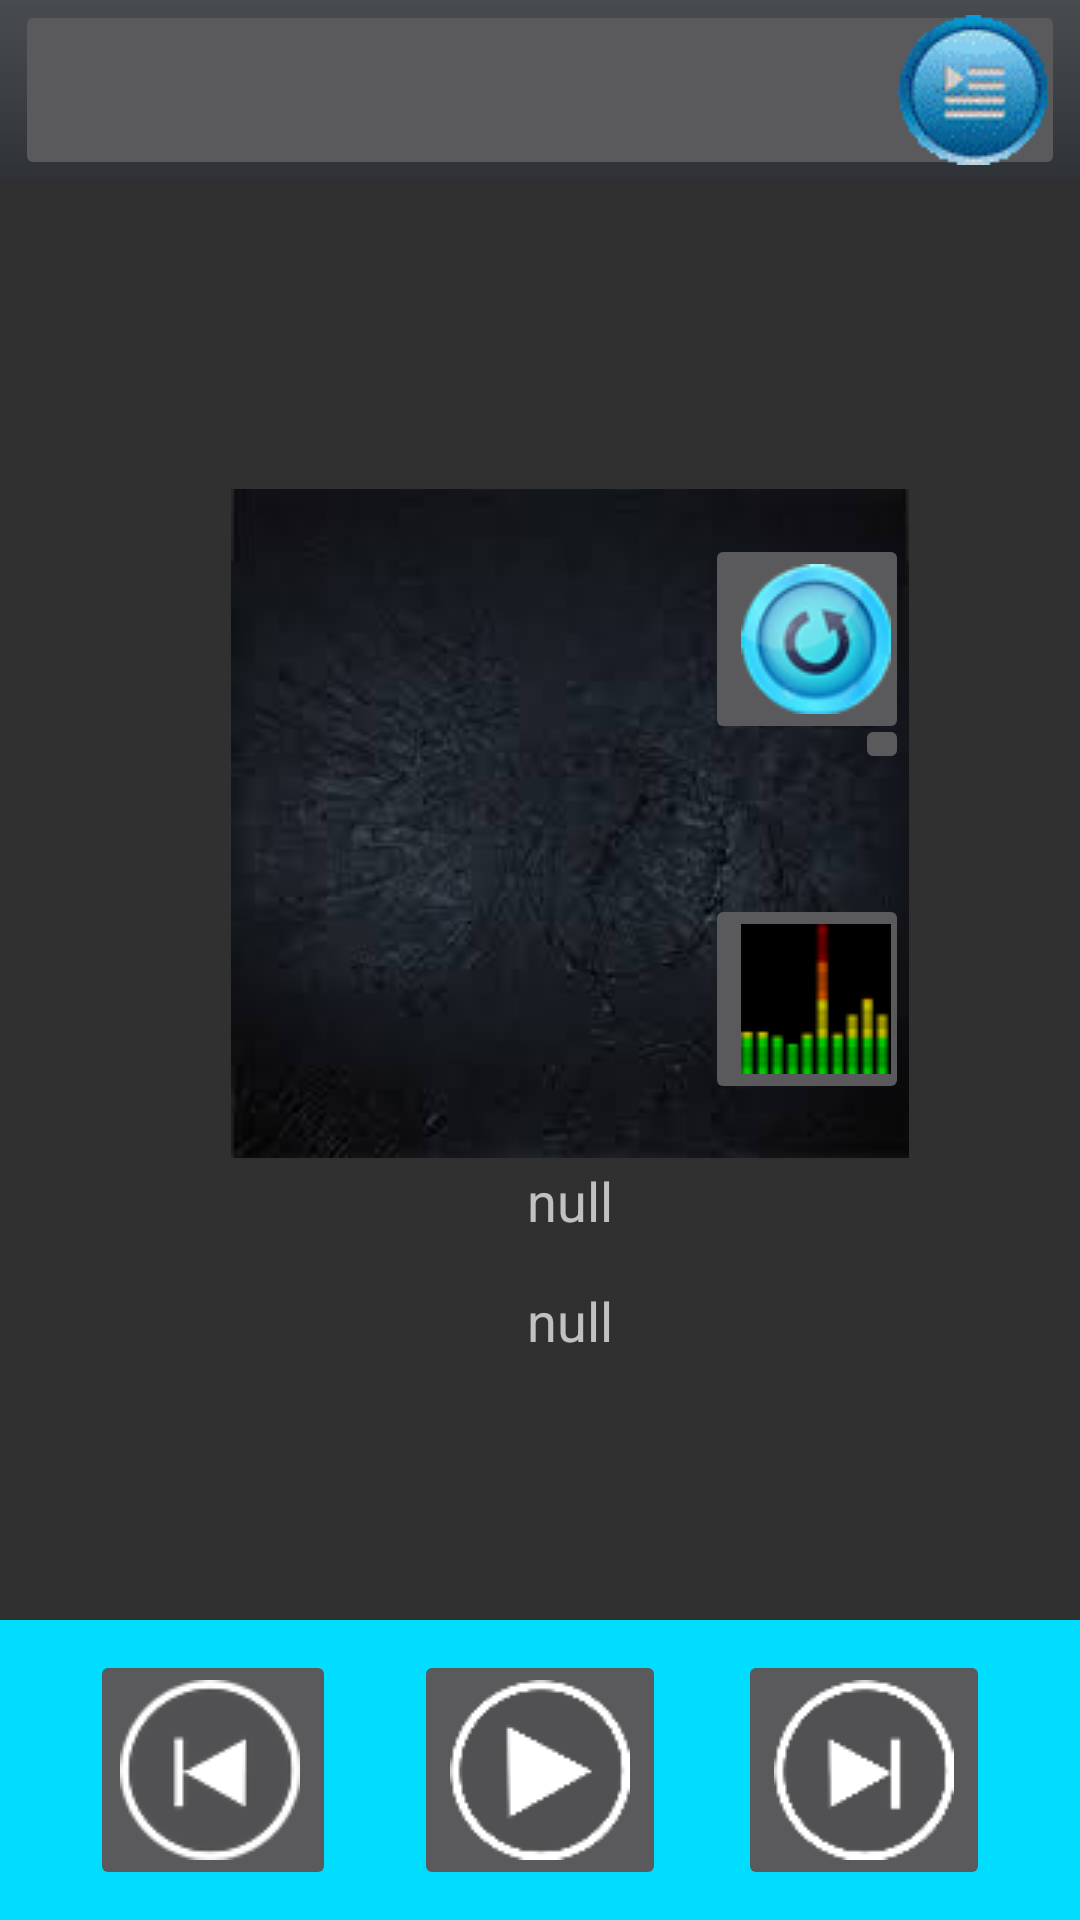

Screen size 1080 × 1920. Icon name, then its box in pixels as (x1, y1, x2, y2):
next: (750, 1668, 978, 1872)
play: (426, 1668, 654, 1872)
previous: (102, 1668, 324, 1872)
